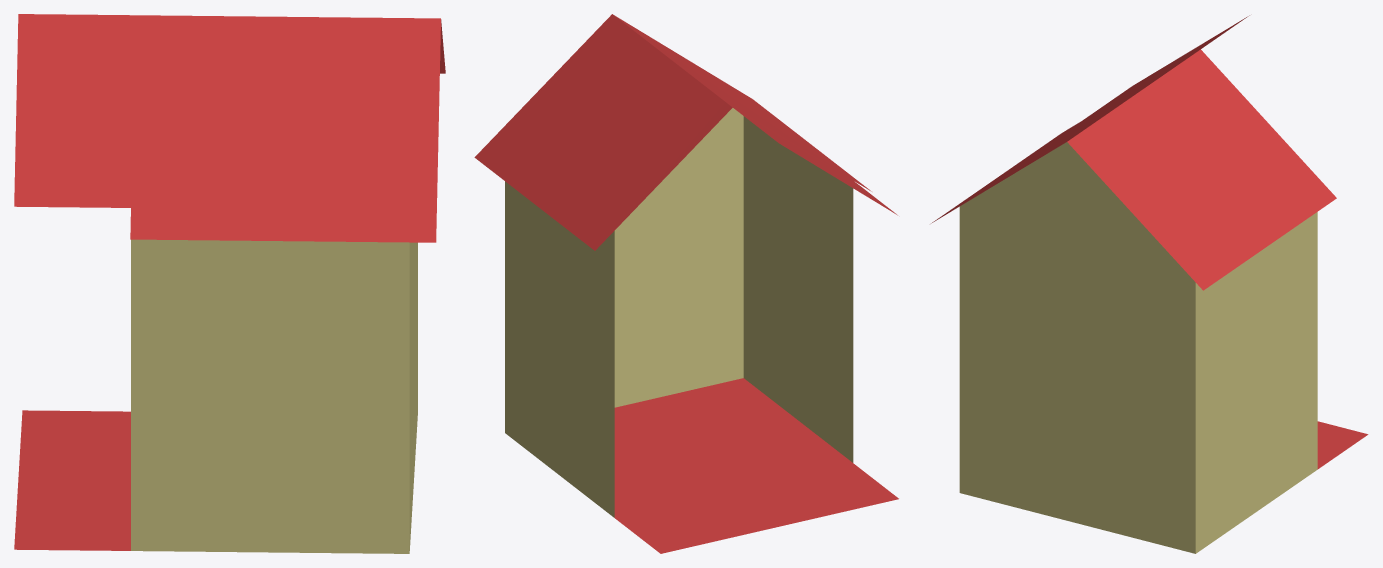
The picture shows the model from 3 angles, left to right: view 1: azimuth 30°, elevation 25°; view 2: azimuth 150°, elevation 25°; view 3: azimuth 270°, elevation 25°; orthographic projection. The views are drawn at different scales.
Bounding box in the file's own units: 15.07 × 14.47 × 14.15.
